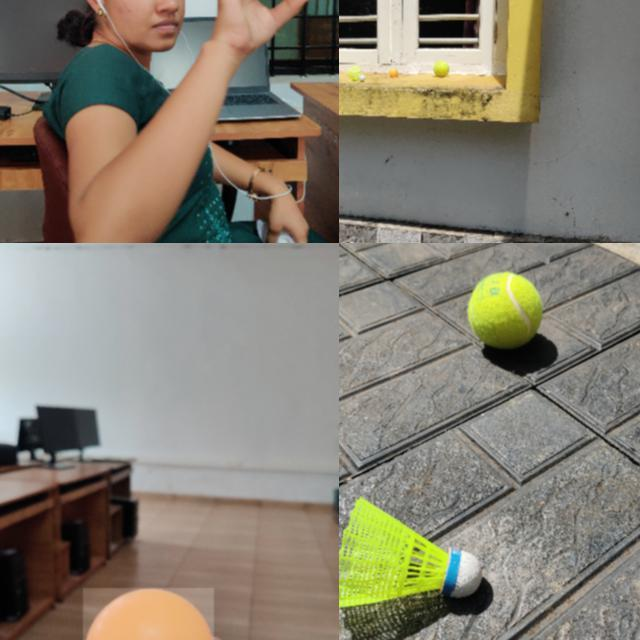ping-pong-ball: (83, 587, 215, 639), (387, 68, 397, 78)
